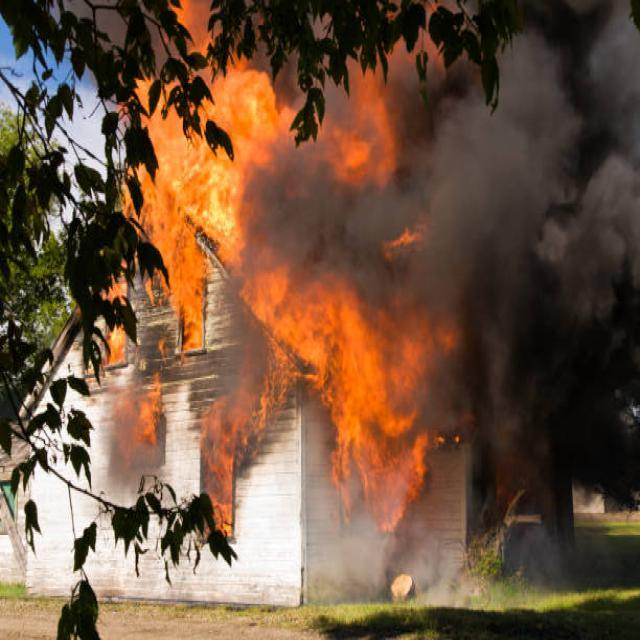Fire: (126, 42, 422, 504)
Smoke: (392, 26, 640, 462), (276, 124, 424, 285)
